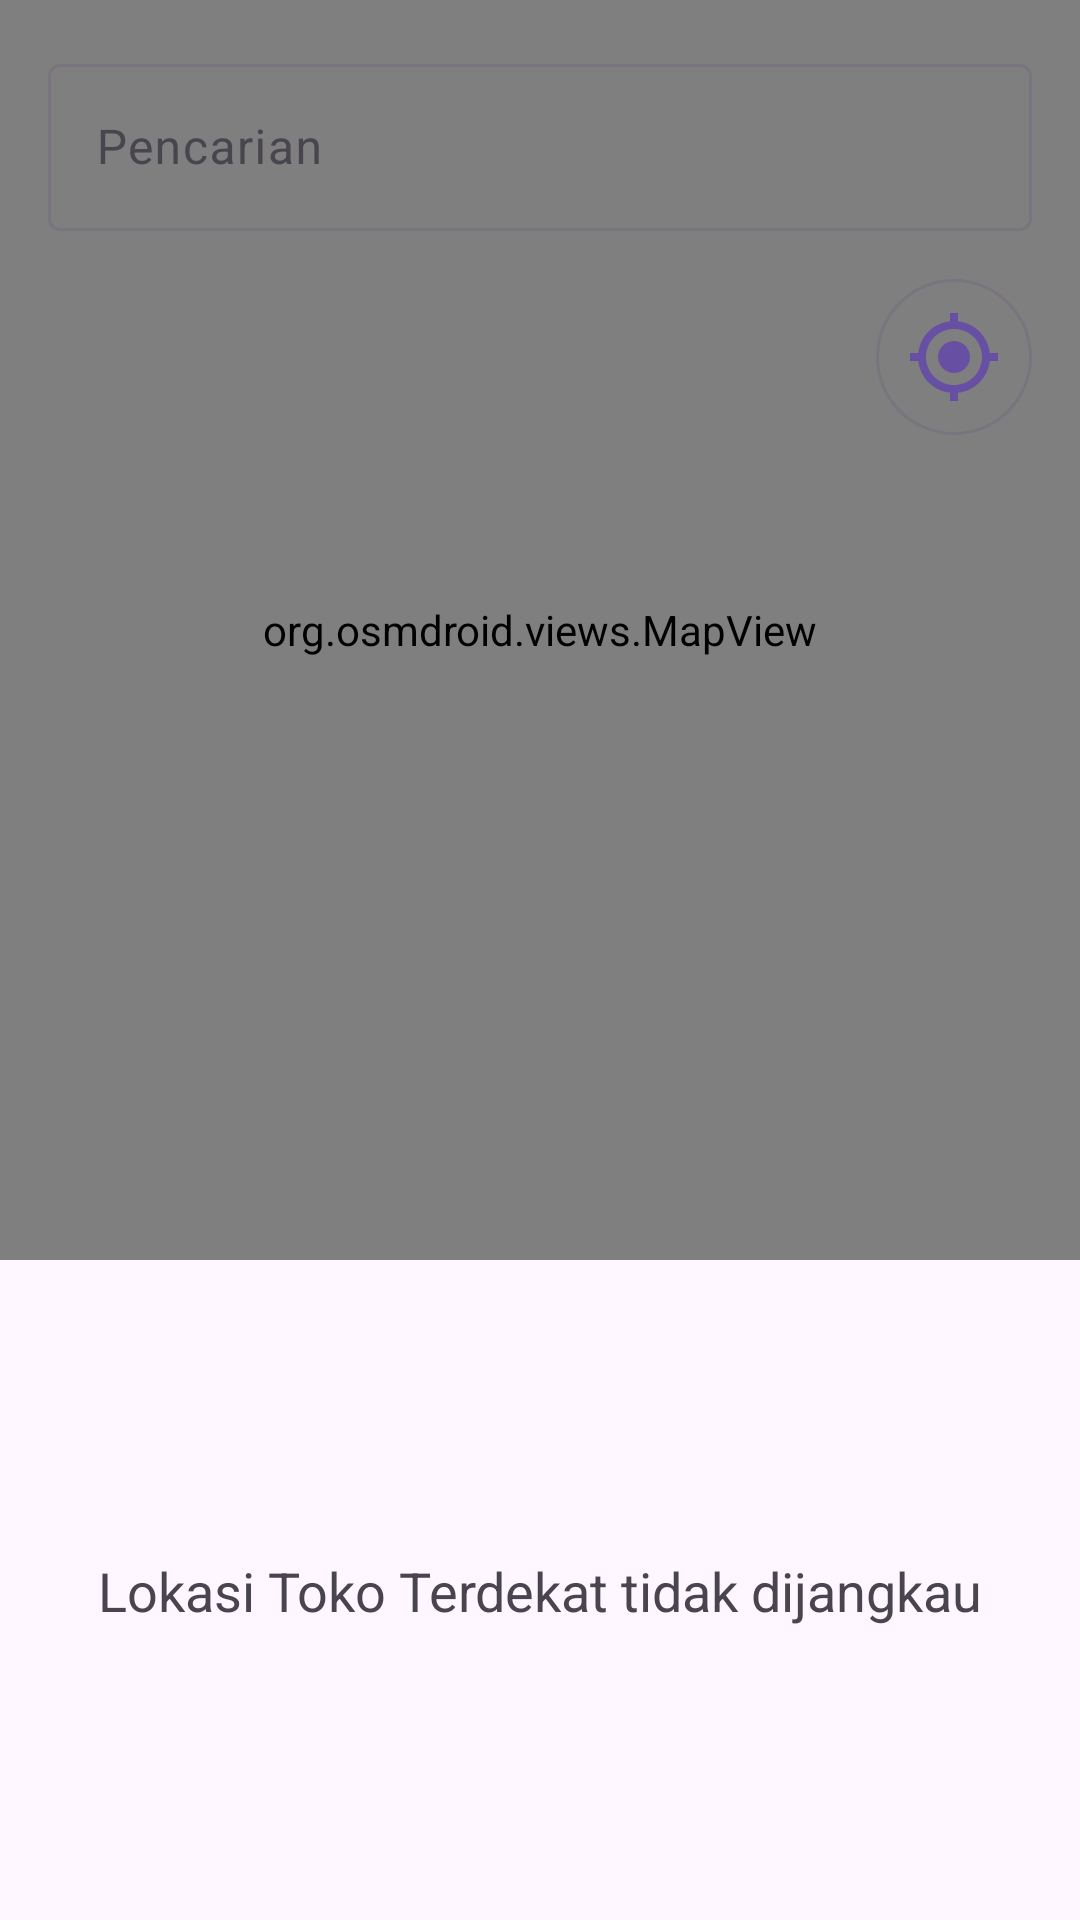

Point at icon controls on the screen. Image size 1080 x 1920, points as (x=x, y=y).
gps fixed: (x=954, y=357)
